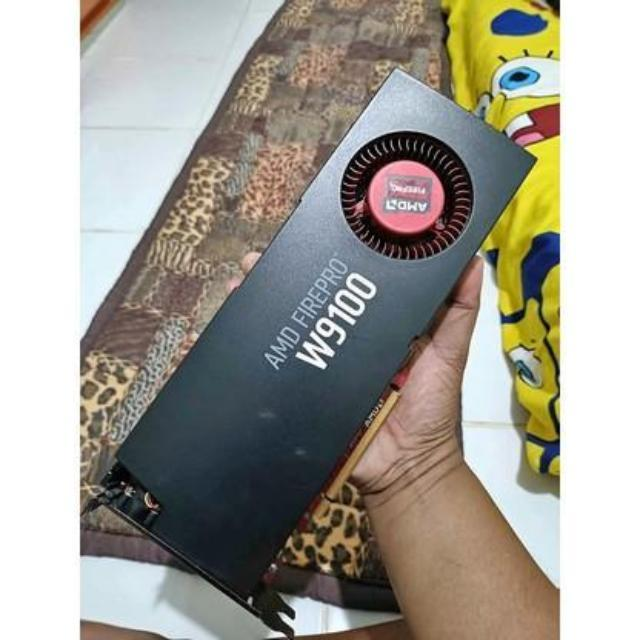GPU: (132, 66, 532, 578)
